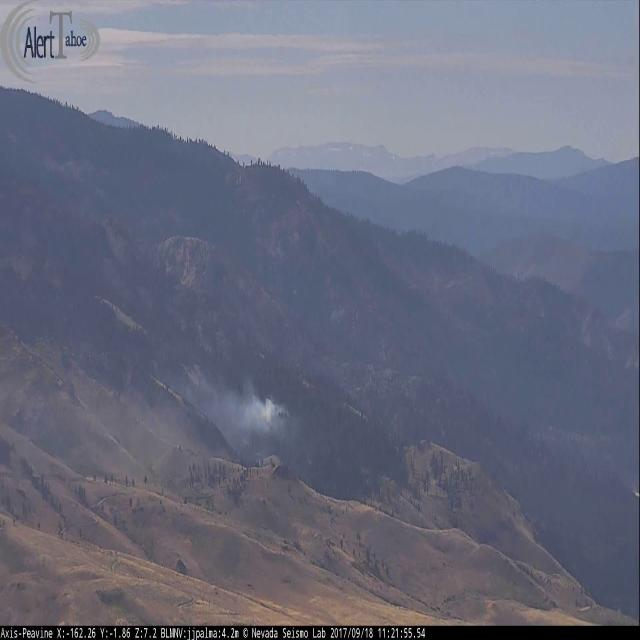smoke: (147, 366, 306, 456)
